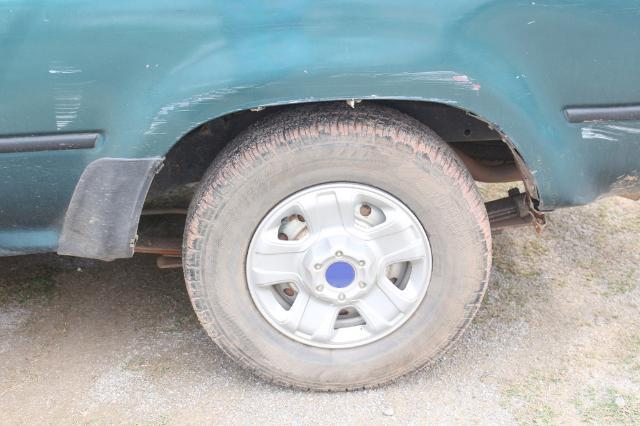scratch: (145, 65, 485, 151), (45, 53, 85, 129), (580, 118, 640, 143)
